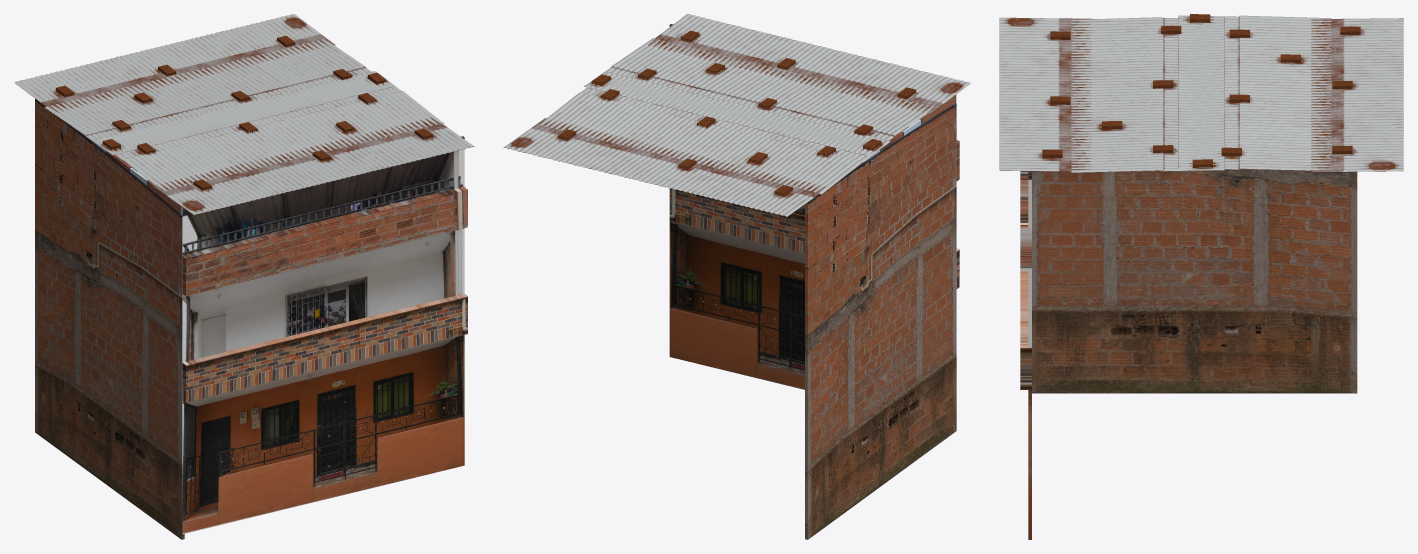
File: casa_derecha_02S.fbx
3 renders of one model, left to right at view 1: azimuth 30°, elevation 25°; view 2: azimuth 150°, elevation 25°; view 3: azimuth 270°, elevation 25°, orthographic. The views are drawn at different scales.
Visible parts, largest first — view 1: casa_derecha_02S, casa_izquierda_05A.009, Techo_1.004, Techo_1.008; view 2: casa_izquierda_05A.009, Techo_1.008, Techo_1.004, casa_derecha_02S; view 3: casa_izquierda_05A.009, Techo_1.008, Techo_1.004, casa_derecha_02S.
Part boxes in pixels (bbox=[...]): casa_derecha_02S: bbox=[182, 136, 467, 534]; casa_izquierda_05A.009: bbox=[35, 98, 184, 539]; Techo_1.004: bbox=[95, 71, 474, 215]; Techo_1.008: bbox=[14, 14, 392, 155]; casa_izquierda_05A.009: bbox=[805, 94, 956, 539]; Techo_1.008: bbox=[503, 72, 890, 216]; Techo_1.004: bbox=[583, 14, 970, 155]; casa_derecha_02S: bbox=[669, 24, 959, 389]; casa_izquierda_05A.009: bbox=[1032, 19, 1357, 393]; Techo_1.008: bbox=[1178, 14, 1403, 172]; Techo_1.004: bbox=[999, 17, 1224, 172]; casa_derecha_02S: bbox=[1020, 171, 1031, 539].
Bounding box in the file's own units: 689 × 785 × 759.
